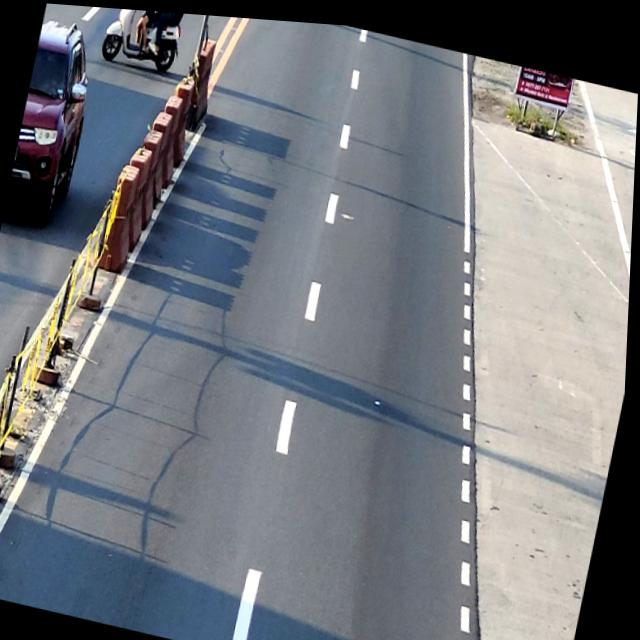Car: (6, 15, 104, 223)
Motorcycle: (99, 6, 189, 72)
